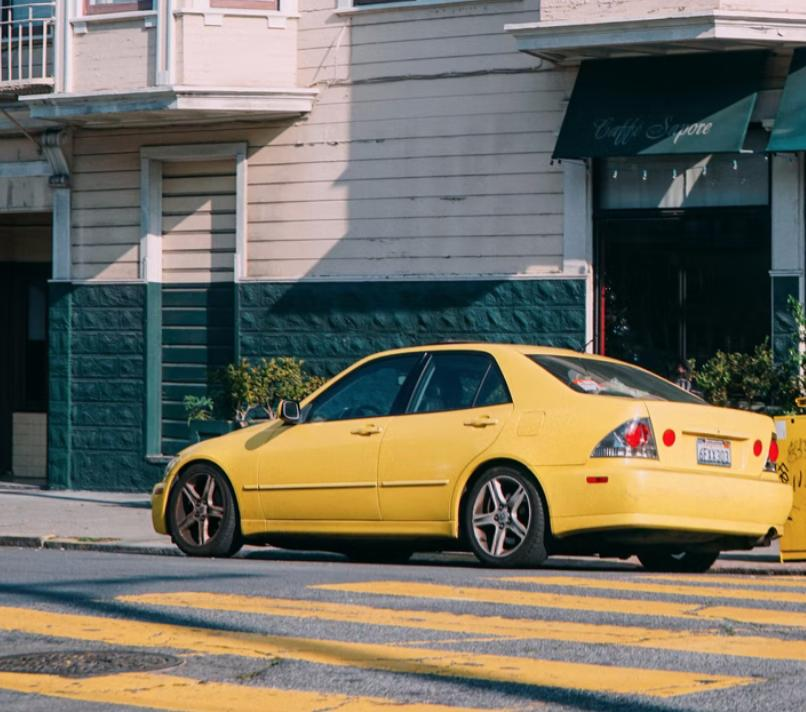car: (134, 313, 795, 588)
